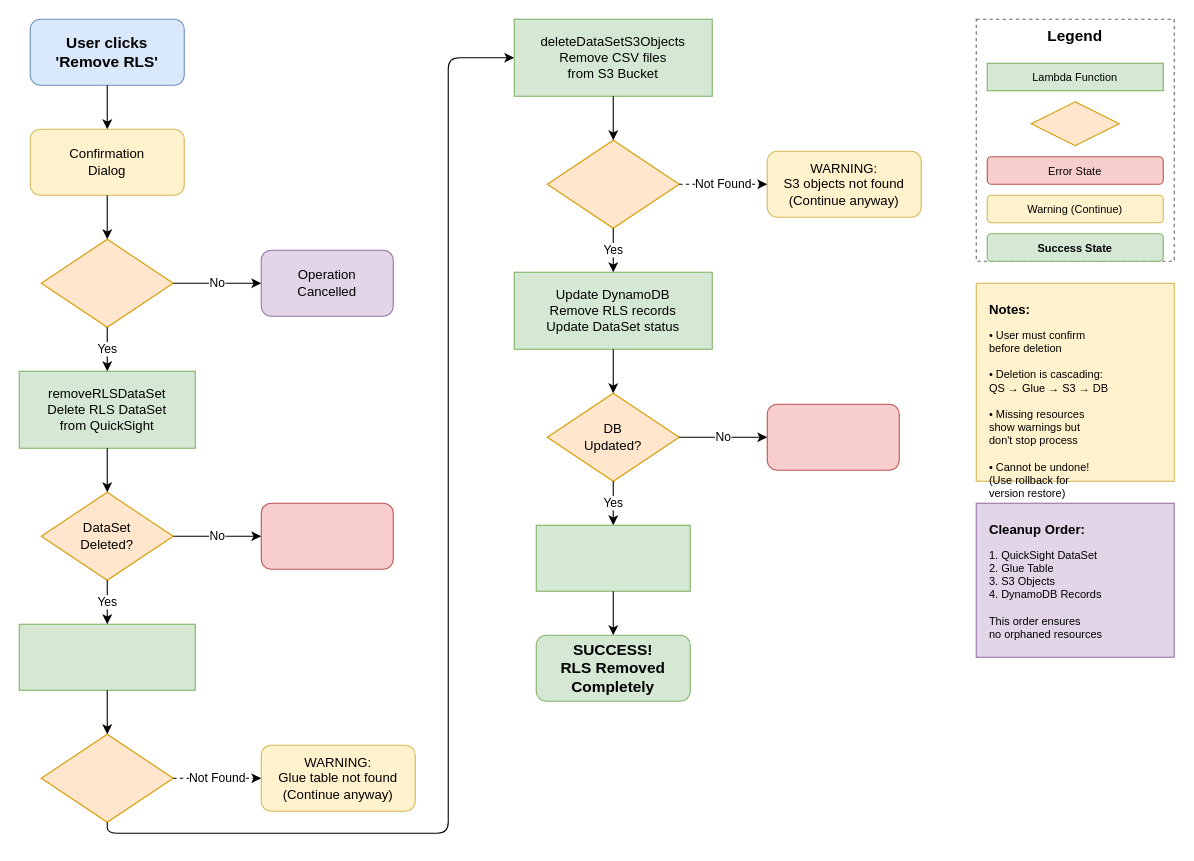
The diagram is 1194 pixels wide and 861 high, and some of its shapes have lost their labels. Each missing label, with the centre of its shape:
"Decision Point" belongs at [1074,123].
"deleteDataSetGlueTable Remove Glue Table" belongs at [106,656].
"ERROR: Failed to delete QS DataSet" belongs at [326,535].
"ERROR: Failed to update database" belongs at [832,436].
"Objects Deleted?" belongs at [612,183].
"Show Success Notification" belongs at [612,557].
"Table Deleted?" belongs at [106,777].
"User Confirms?" belongs at [106,282].
